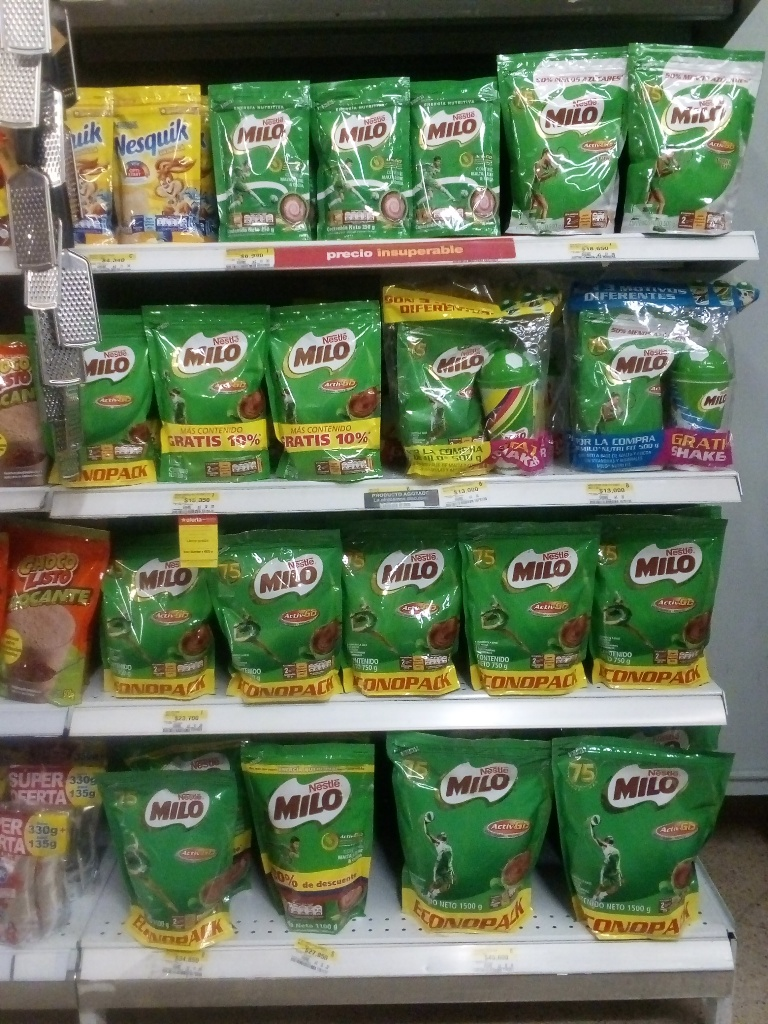COL0170102DYP50000: (0, 520, 109, 706)
COL0170203DYP50000: (396, 313, 507, 459)
COL0170205DYP50000: (493, 44, 632, 236)
COL0170306DYP20000: (107, 85, 207, 240)
